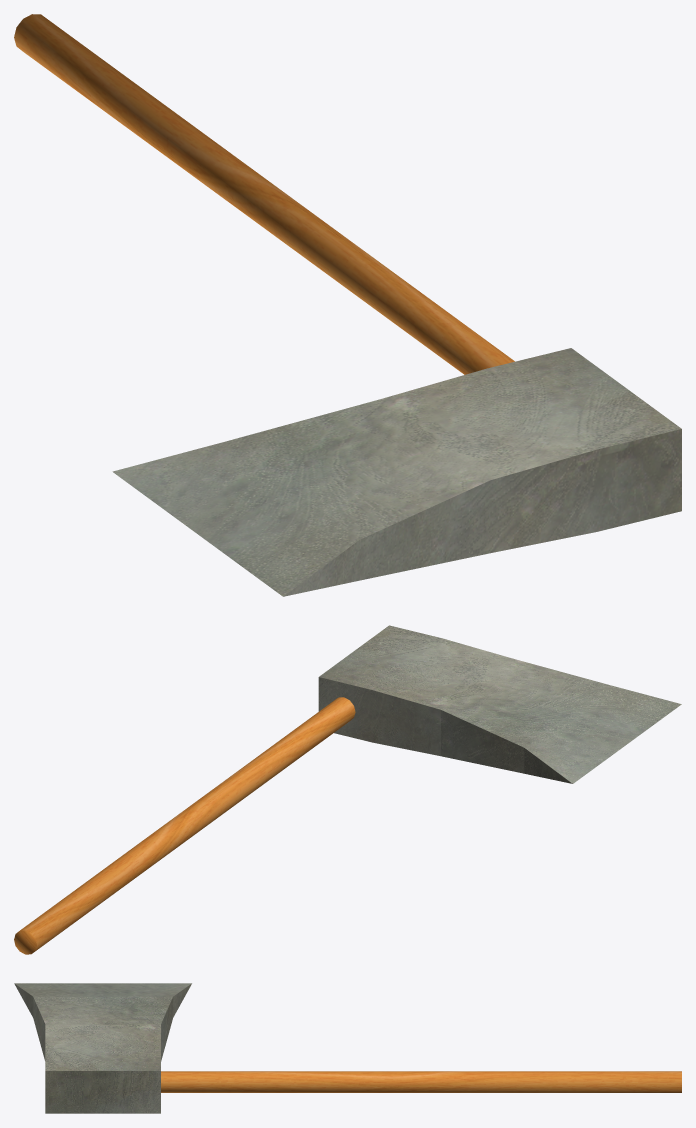
Rendered from Hacha_Mano.obj.
The picture shows the model from 3 angles, top to bottom: view 1: azimuth 30°, elevation 25°; view 2: azimuth 150°, elevation 25°; view 3: azimuth 270°, elevation 25°; orthographic projection. The views are drawn at different scales.
Visible parts, largest first — view 1: Hacha; view 2: Hacha; view 3: Hacha.
Boxes of the visible parts, x1=… form: Hacha: x1=14, y1=14, x2=681, y2=596; Hacha: x1=14, y1=625, x2=681, y2=954; Hacha: x1=14, y1=983, x2=681, y2=1113.
Bounding box in the file's own units: 0.2184 × 0.04 × 0.5648.
2 materials, 2 textured.
